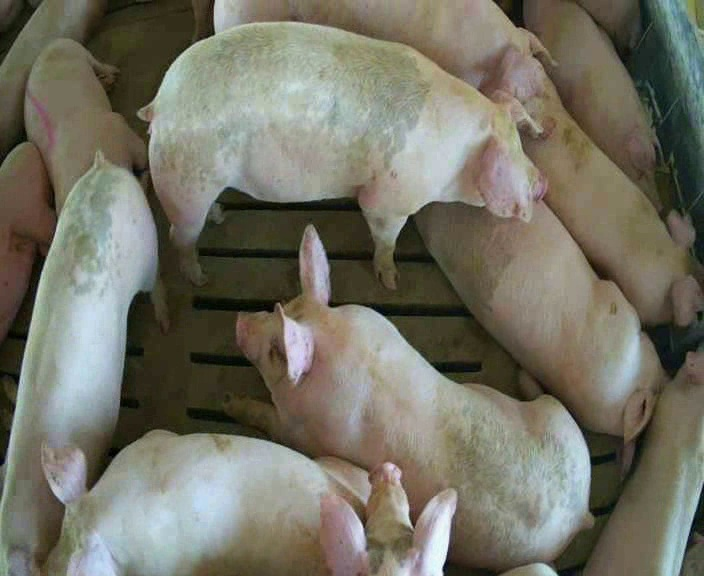pig: (141, 24, 544, 288), (0, 154, 167, 574), (416, 202, 663, 480), (41, 430, 369, 573), (215, 2, 553, 140), (522, 78, 703, 326), (523, 2, 660, 209), (584, 347, 703, 574), (25, 39, 147, 211), (0, 2, 106, 159), (320, 463, 456, 574), (0, 142, 55, 342)
